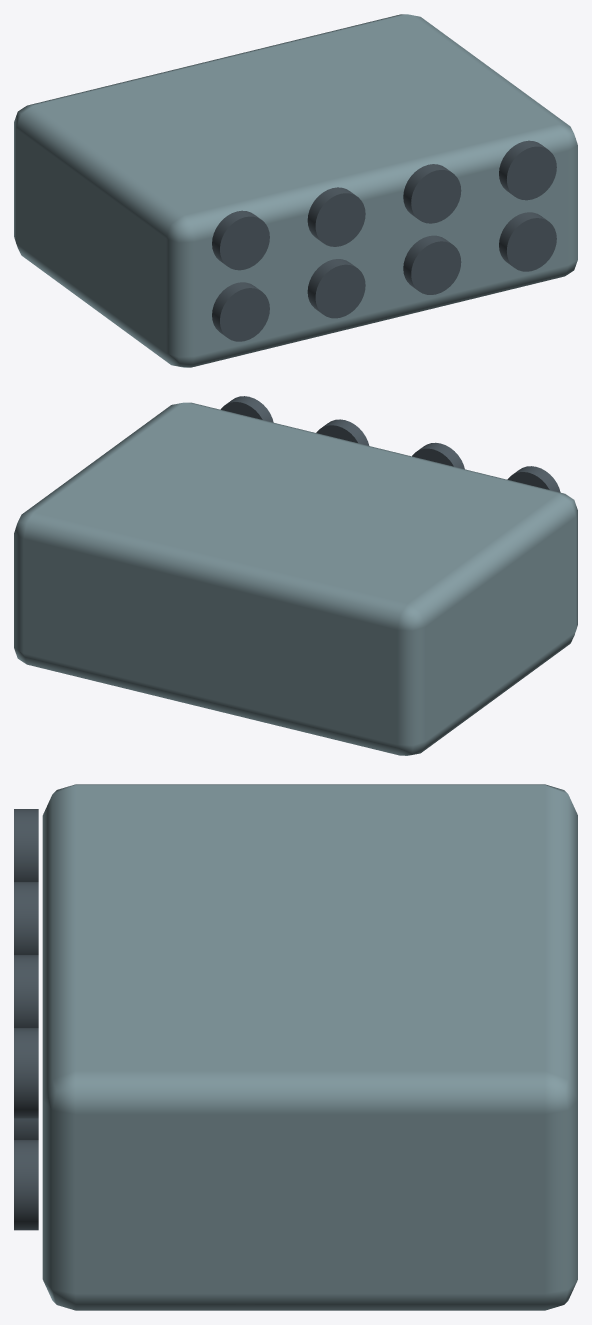
3 views of the same model, one above another, from view 1: azimuth 30°, elevation 25°; view 2: azimuth 150°, elevation 25°; view 3: azimuth 270°, elevation 25° (orthographic). The views are drawn at different scales.
Parts seen in each view (by area): view 1: decoy-launcher; view 2: decoy-launcher; view 3: decoy-launcher.
Boxes of the visible parts, left/top/right/bottom form: decoy-launcher: left=14, top=14, right=577, bottom=367; decoy-launcher: left=14, top=396, right=577, bottom=755; decoy-launcher: left=14, top=784, right=577, bottom=1310.
Bounding box in the file's own units: 0.9 × 0.325 × 0.685.
